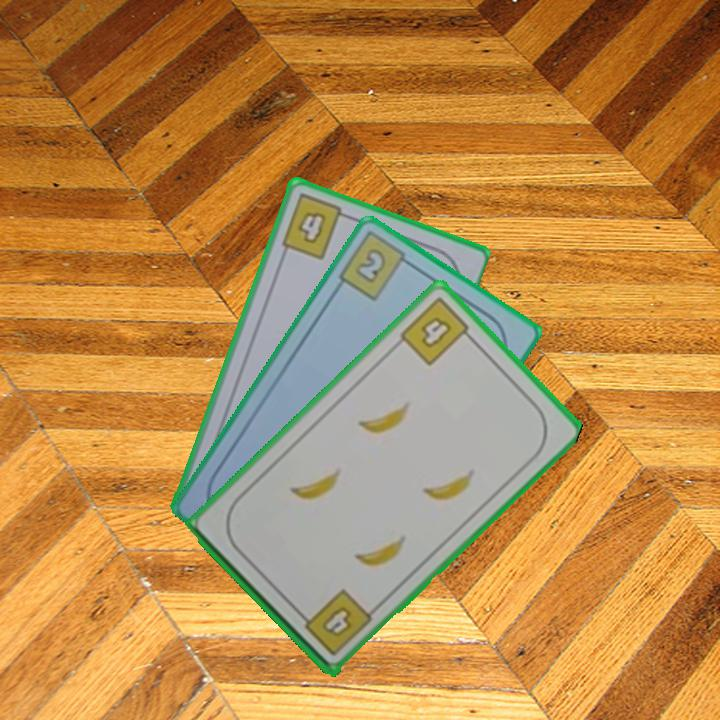2b: (334, 228, 418, 304)
4b: (396, 293, 478, 369), (294, 585, 375, 659), (277, 190, 353, 263)
